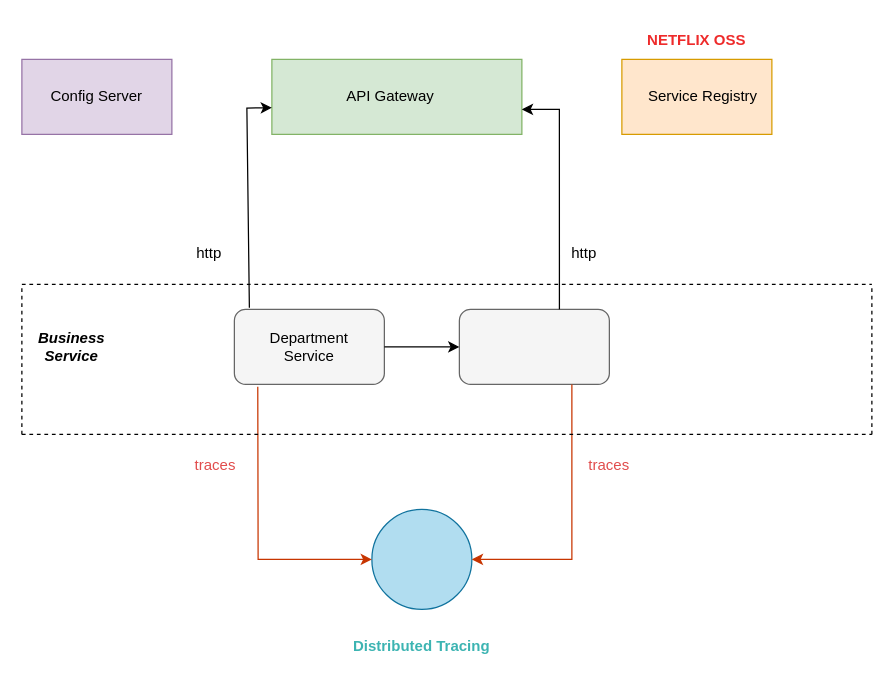
This 895x686 diagram has some shape labels left out. Here are the shapes that lost their labels. From the top down, the box of each, then its label:
(458, 308, 609, 384): Employee Service
(371, 508, 472, 609): ZIPKIN
